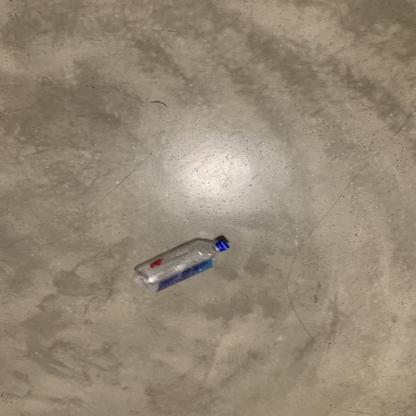trash: (133, 239, 230, 295)
